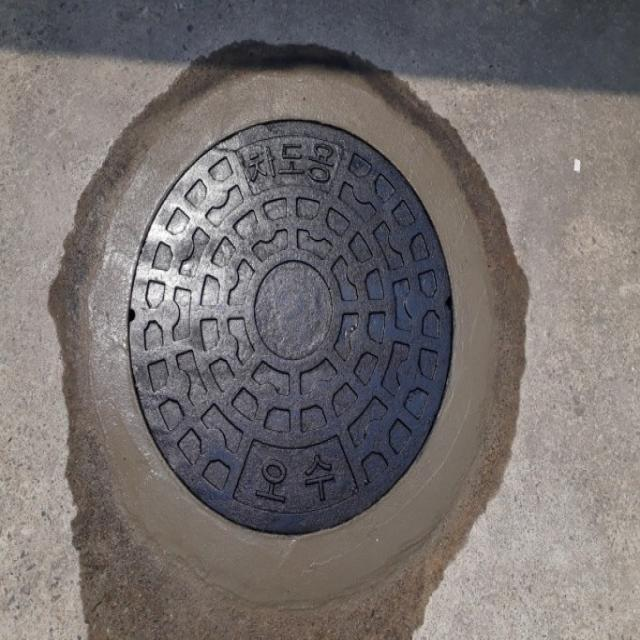manhole: (125, 119, 454, 538)
